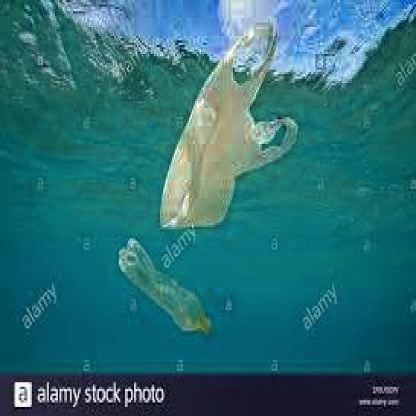pbag: (154, 18, 300, 241)
pbottle: (116, 236, 221, 335)
